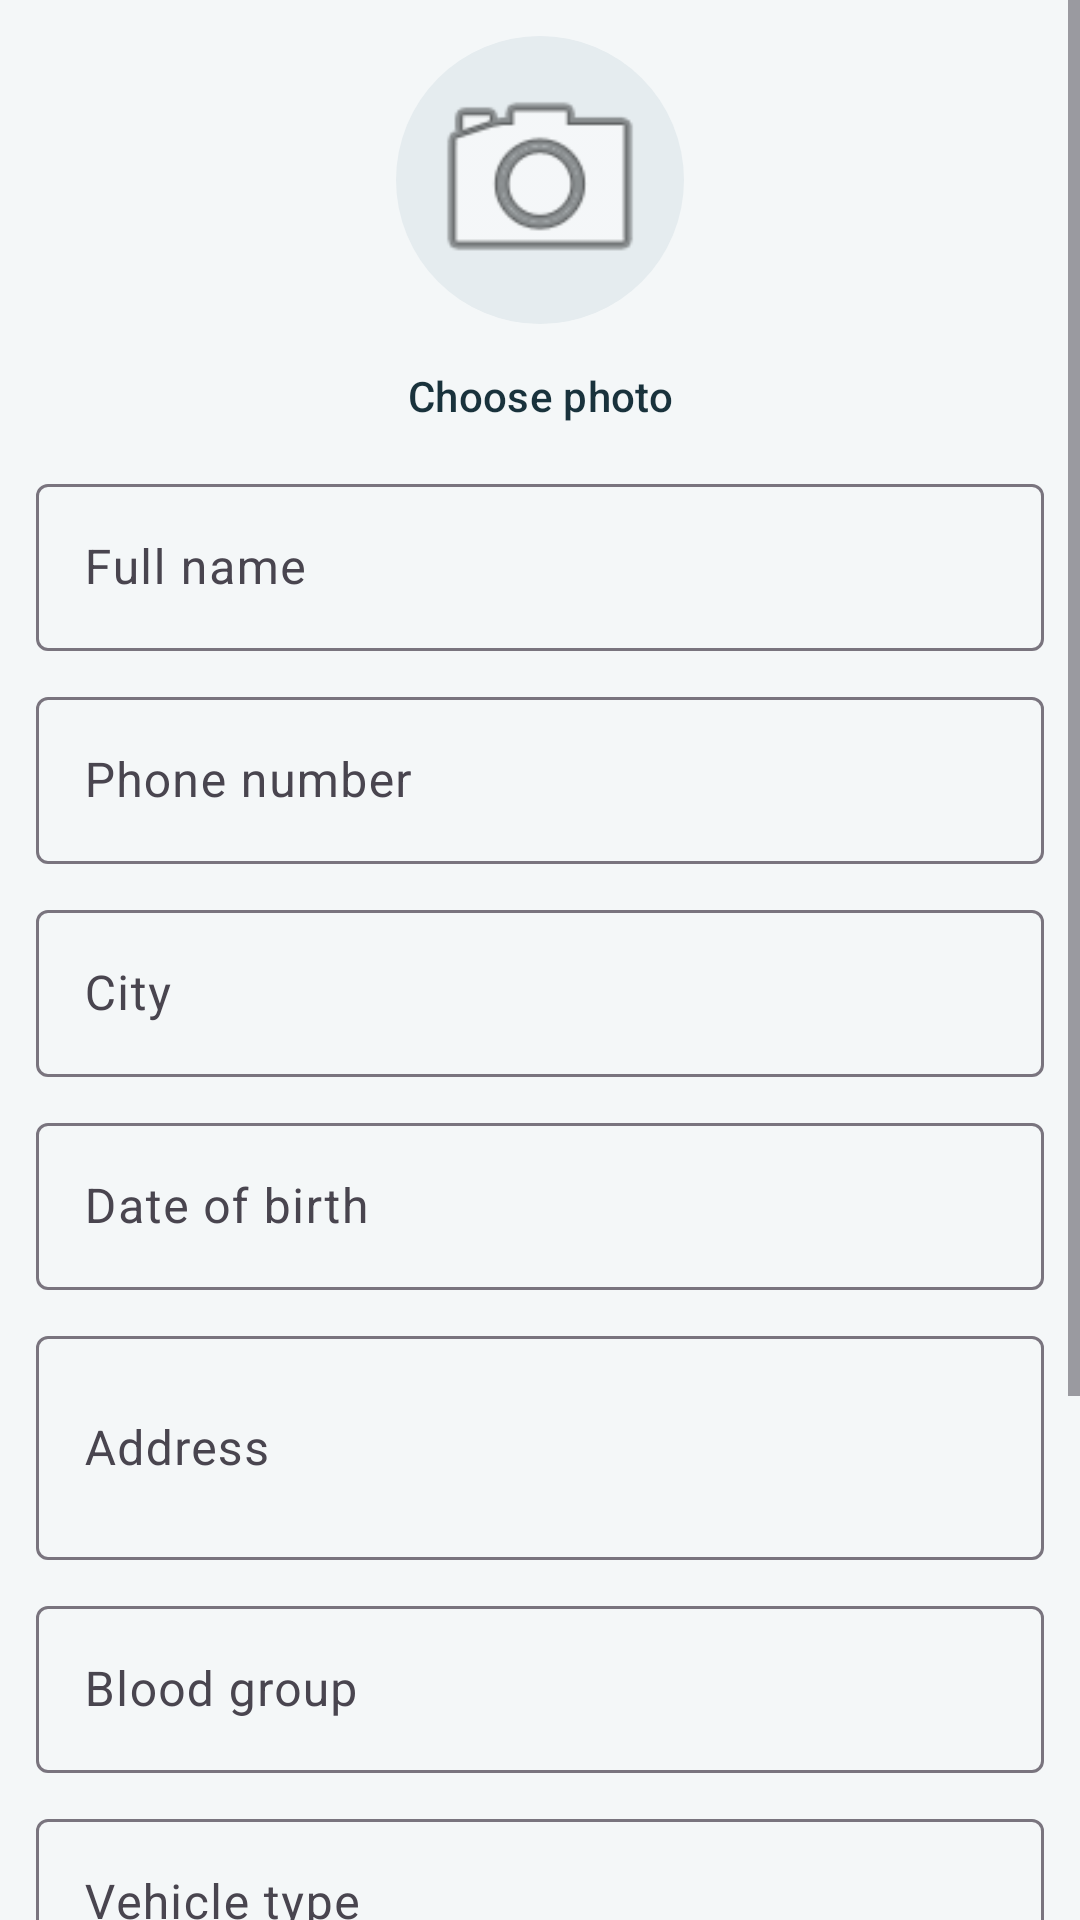

Icon click points for this 1080*1920 phone screenshot, format (x=x, y=y):
Rider photo: (x=540, y=176)
